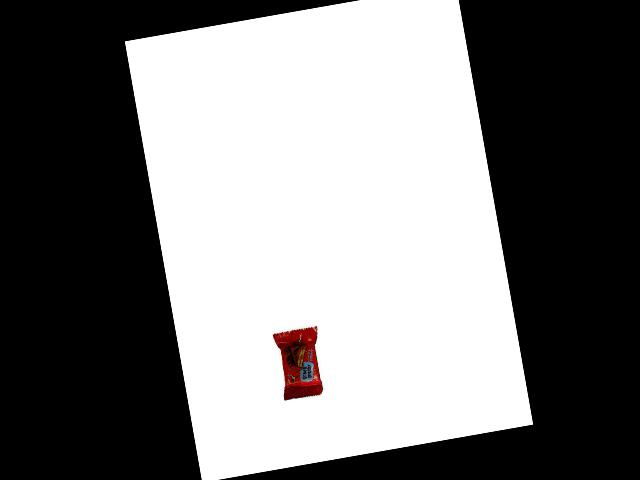chocolate: (273, 324, 333, 406)
